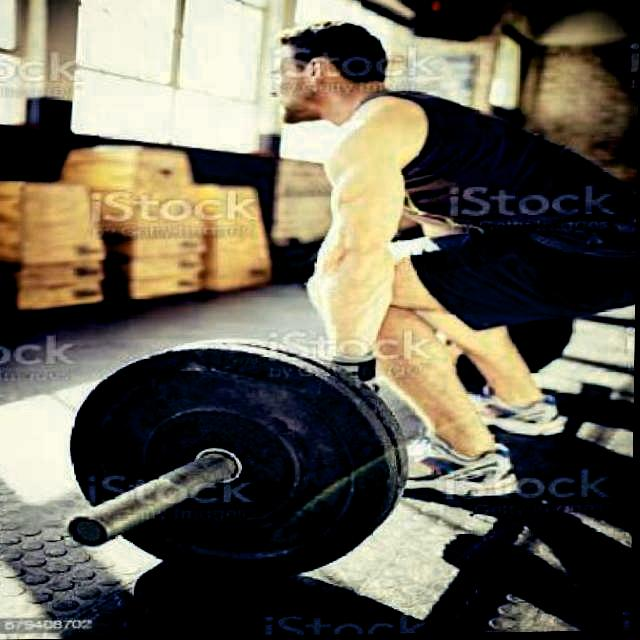barbell: (66, 337, 405, 600)
